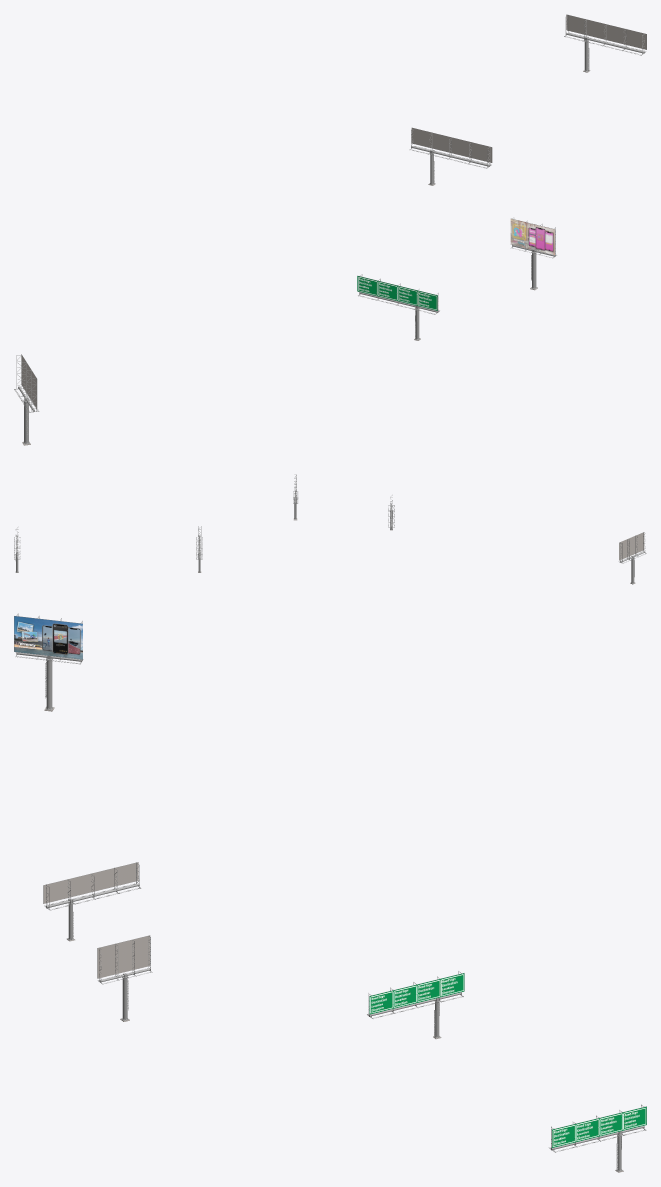
Rendered from billboardsa.glb.
3 views of the same model, one above another, from view 1: azimuth 30°, elevation 25°; view 2: azimuth 150°, elevation 25°; view 3: azimuth 270°, elevation 25° (orthographic). The views are drawn at different scales.
Parts seen in each view (by area): view 1: cityblockassetkit; view 2: cityblockassetkit; view 3: cityblockassetkit.
Part boxes in pixels (x1=…): cityblockassetkit: x1=14, y1=14, x2=646, y2=445; cityblockassetkit: x1=14, y1=474, x2=646, y2=584; cityblockassetkit: x1=14, y1=613, x2=646, y2=1172.
Size of the model in its own units: 240 by 21.01 by 132.
9 materials, 7 textured.
